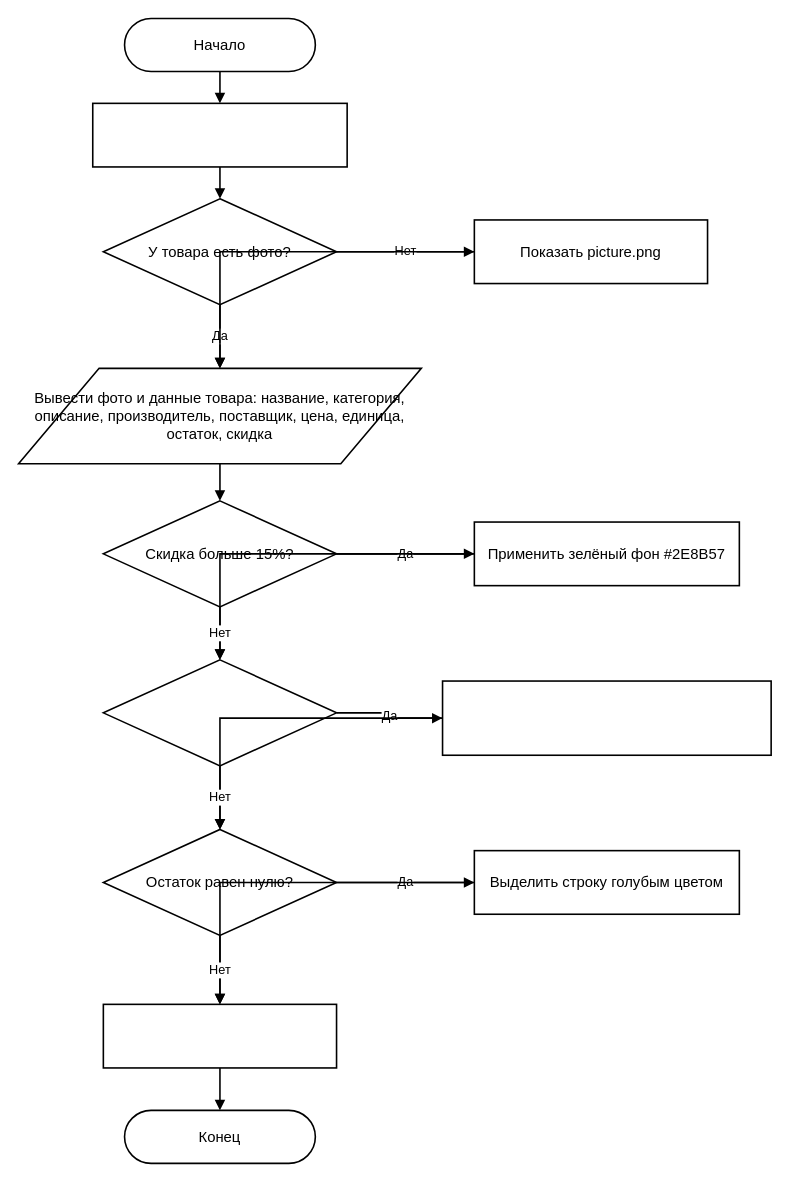
Image size: 791x1183. Some labels were removed from this diagram. The shapes that lost their labels are listed below. From the top down, each one's centre as x and y in pixels, then its label:
At (219,134): "Получить товары из базы данных".
At (219,712): "Цена снижена?".
At (606,718): "Показать старую цену зачёркнутой красным и итоговую чёрным".
At (219,1035): "Показать каталог товаров".
